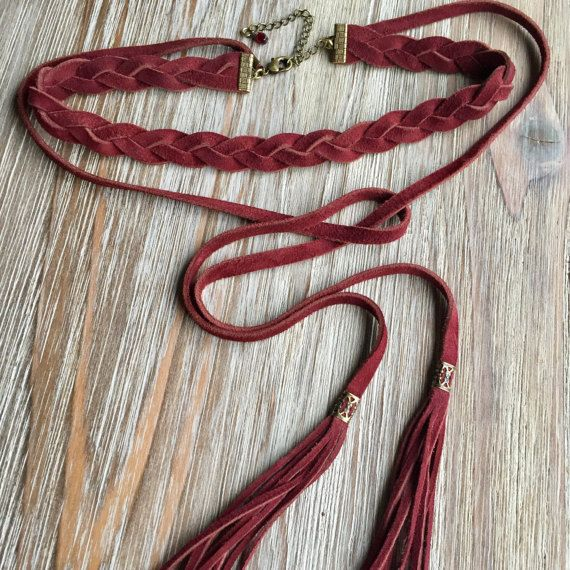gamuza: (18, 1, 551, 570)
